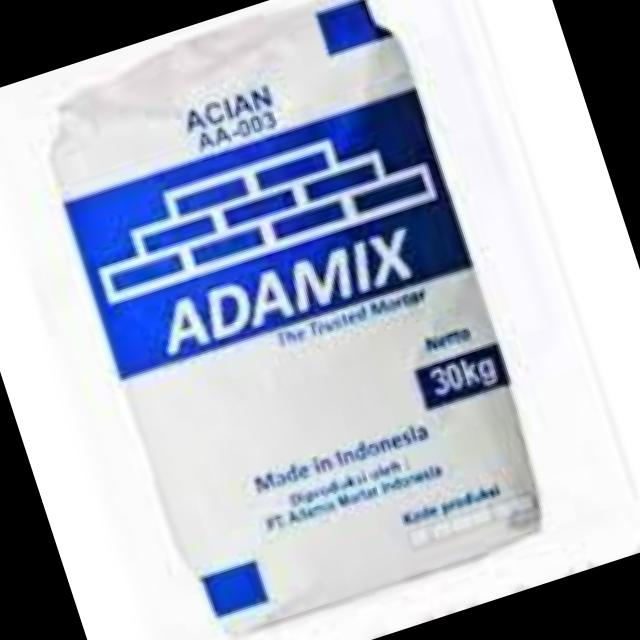KantongSemen: (19, 0, 564, 640)
